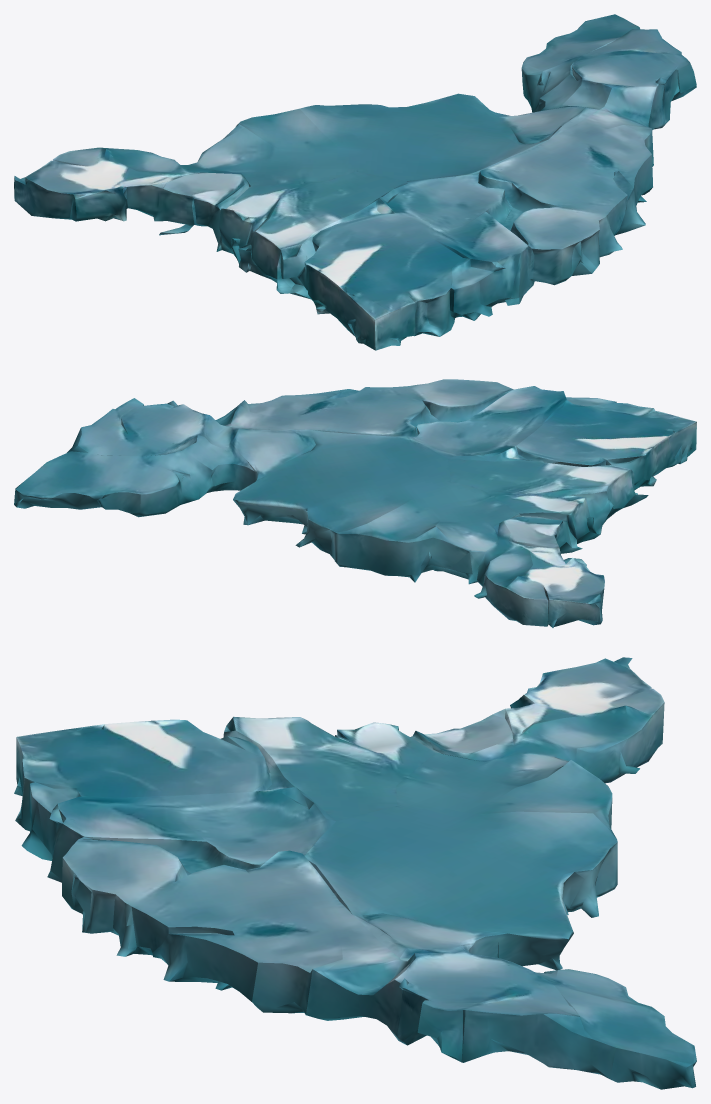
Rendered from m2CrackedIcePlatform.glb.
The picture shows the model from 3 angles, top to bottom: view 1: azimuth 30°, elevation 25°; view 2: azimuth 150°, elevation 25°; view 3: azimuth 270°, elevation 25°; orthographic projection. The views are drawn at different scales.
Visible parts, largest first — view 1: model; view 2: model; view 3: model.
Part boxes in pixels (x1,y1,x2,y2): model: [14, 14, 696, 350]; model: [14, 379, 696, 627]; model: [14, 657, 696, 1089].
Size of the model in its own units: 1.9 by 0.1872 by 1.37.
1 material, 1 textured.
